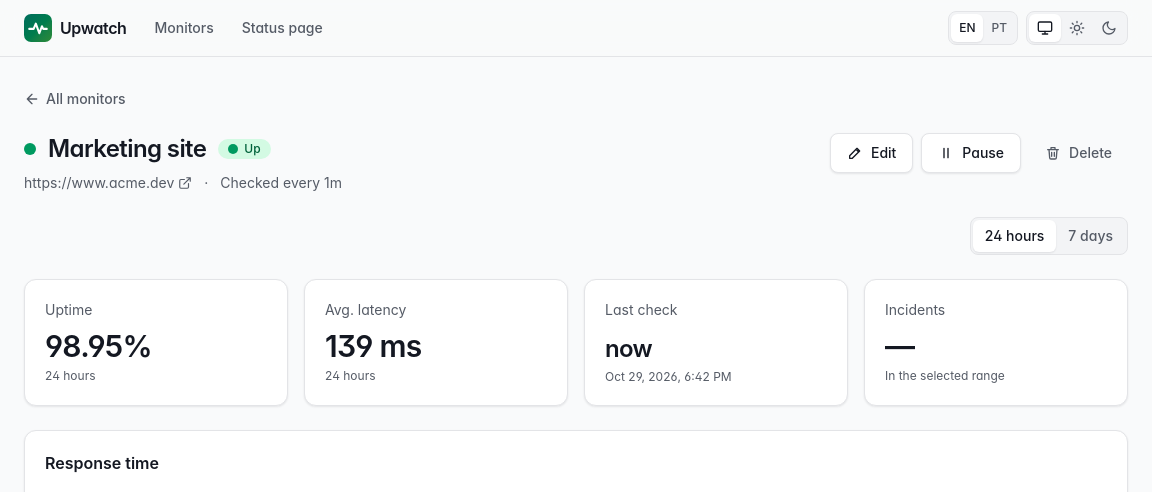
Test: MonitorDetailPage › switches range through the URL
expect the heading "Marketing site" is shown: met, box left=48, top=133, right=206, bottom=165
What coordinates should you click on to do the following:
click the button "7 days"
I would click on:
 (1091, 236)
Its box is left=1056, top=220, right=1125, bottom=252.
(page scrolled)
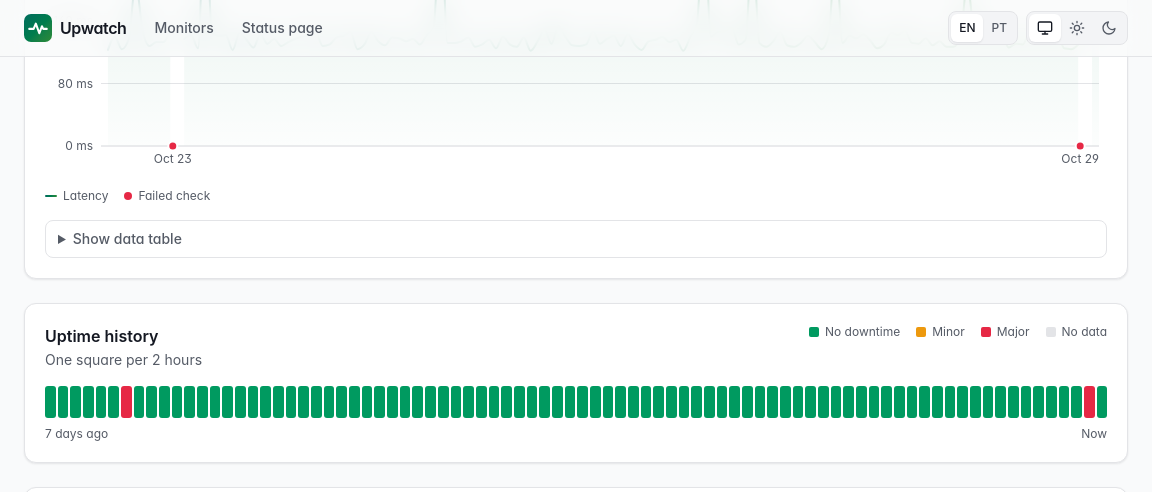
expect the text "One square per 2 hours" is shown: met, box left=45, top=350, right=202, bottom=370
